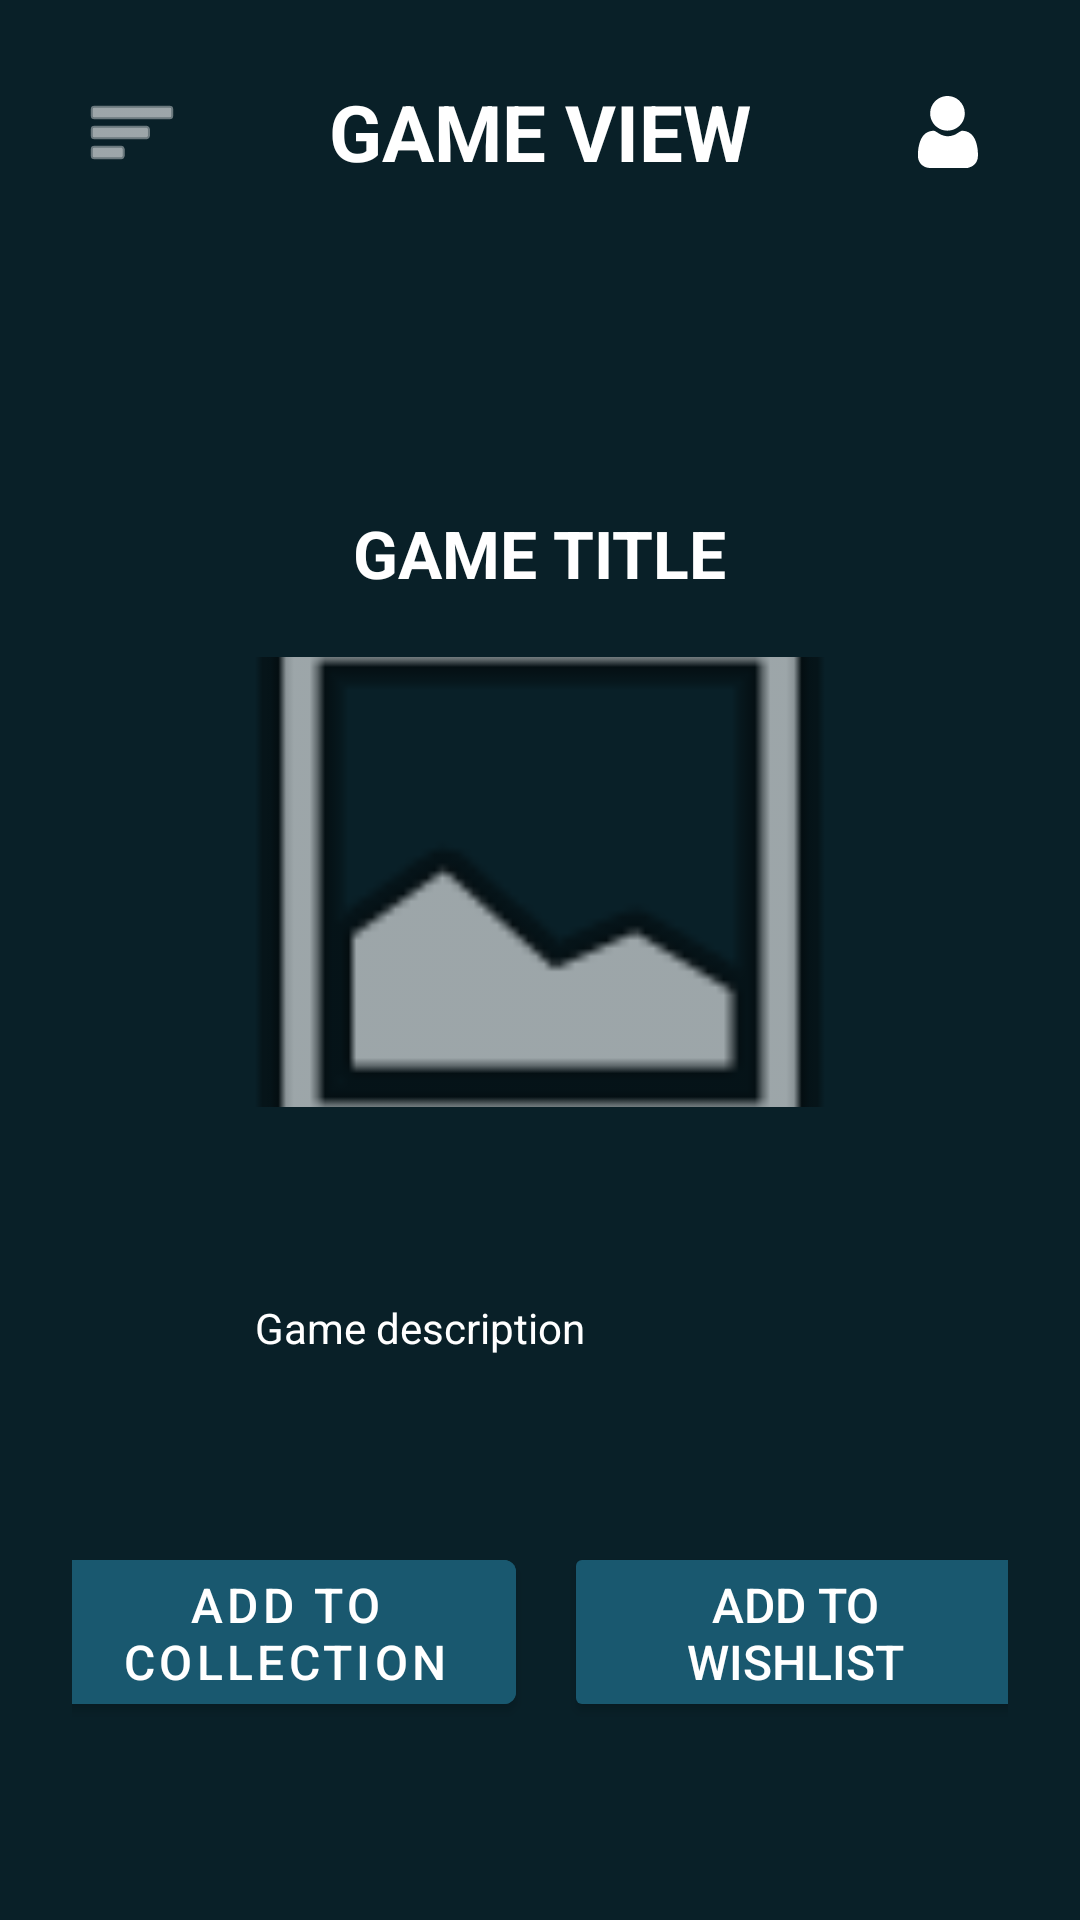

Named icons in this screenshot (1080*1920) and their centers, point (x, y):
Open user profile: point (948, 132)
